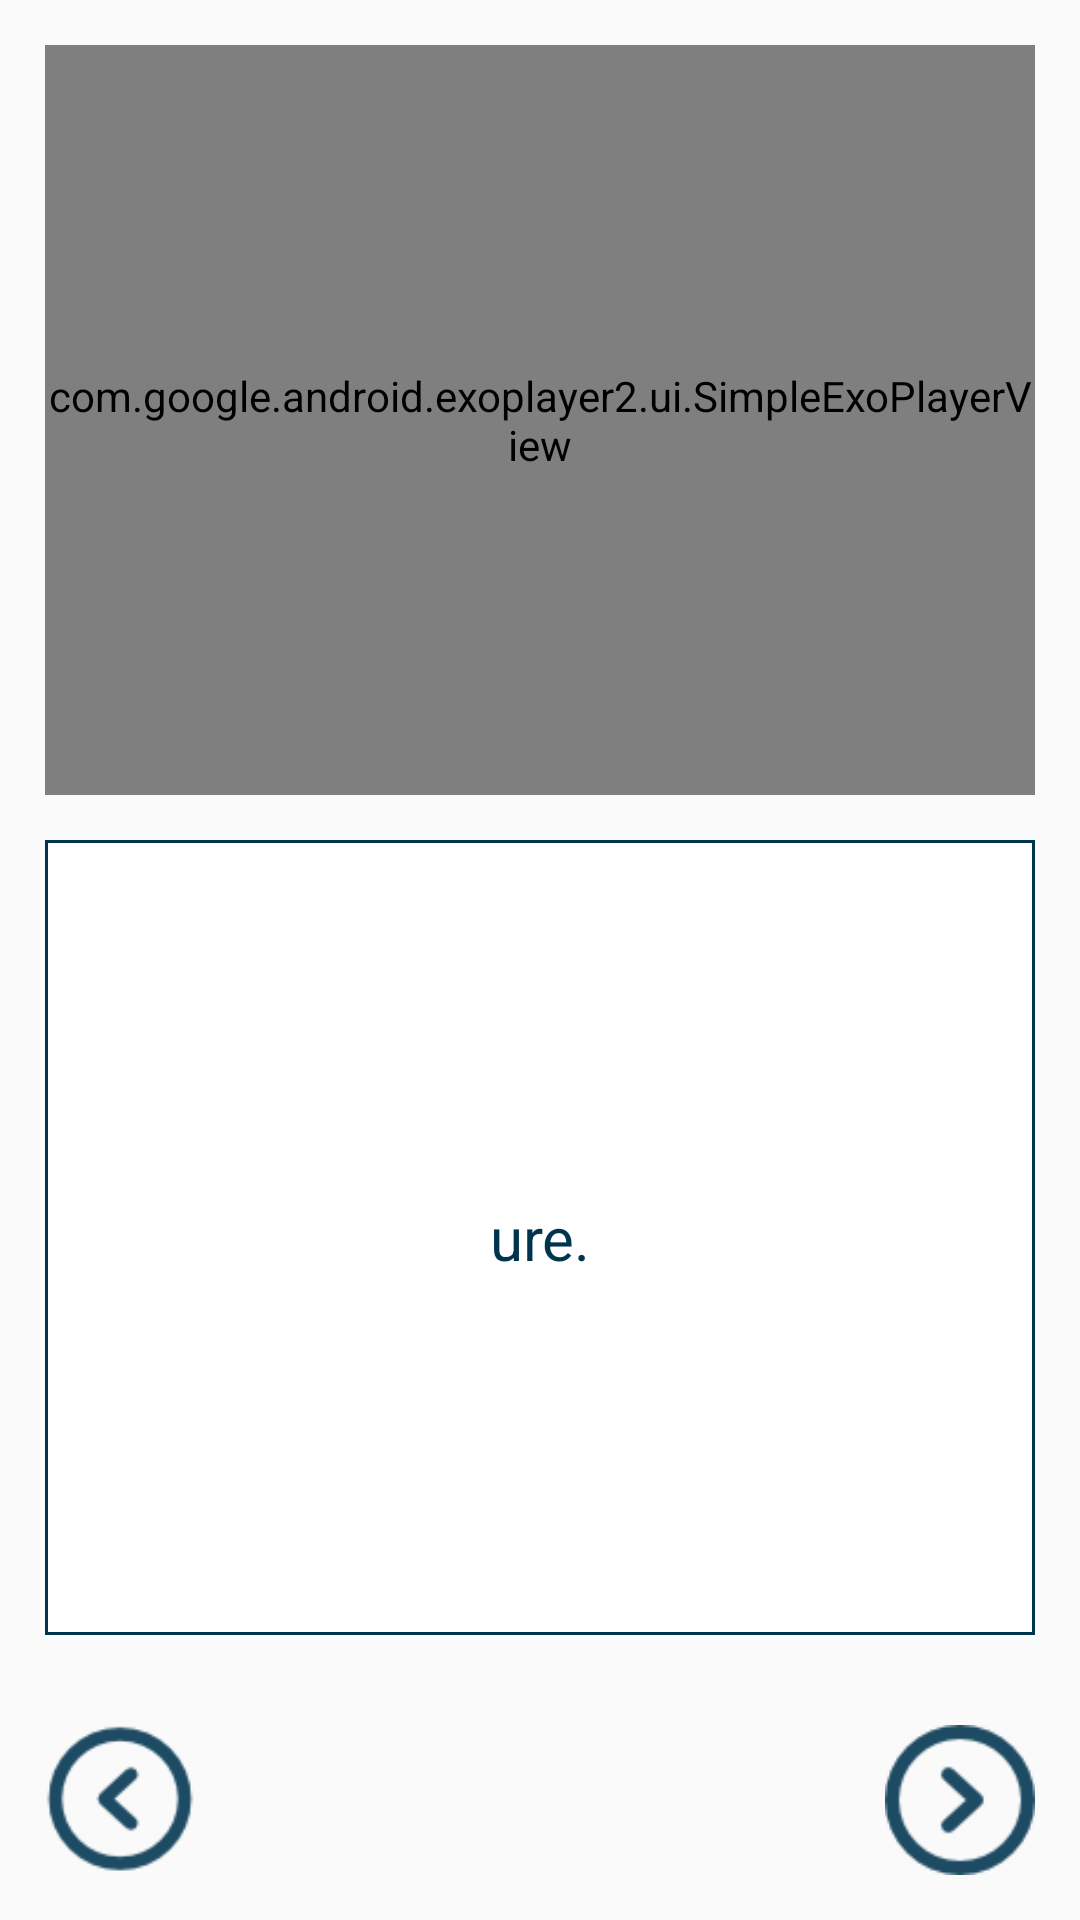

Where to tap for icons on this 1080×1920 app screen, as point (x, y):
left: point (120, 1798)
right: point (960, 1800)
